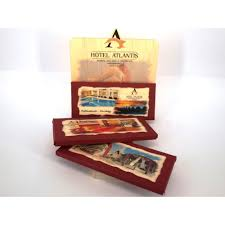Chocolate: (48, 133, 200, 203), (60, 73, 169, 123), (48, 112, 171, 152)
